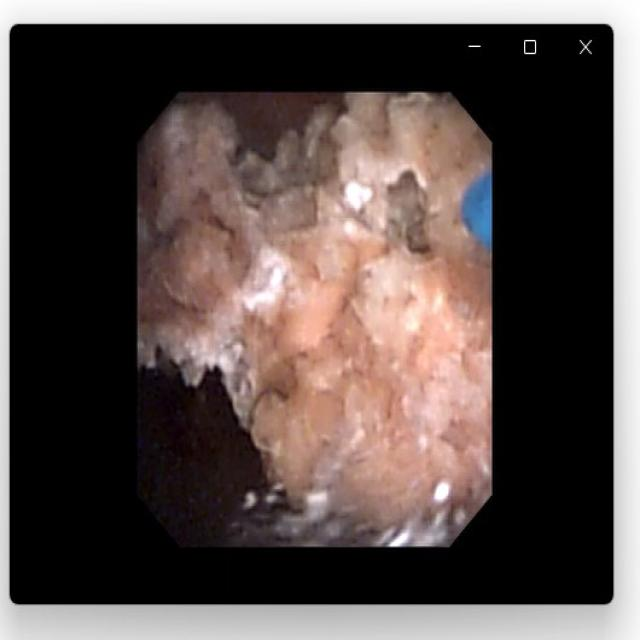stone: (142, 97, 487, 537)
